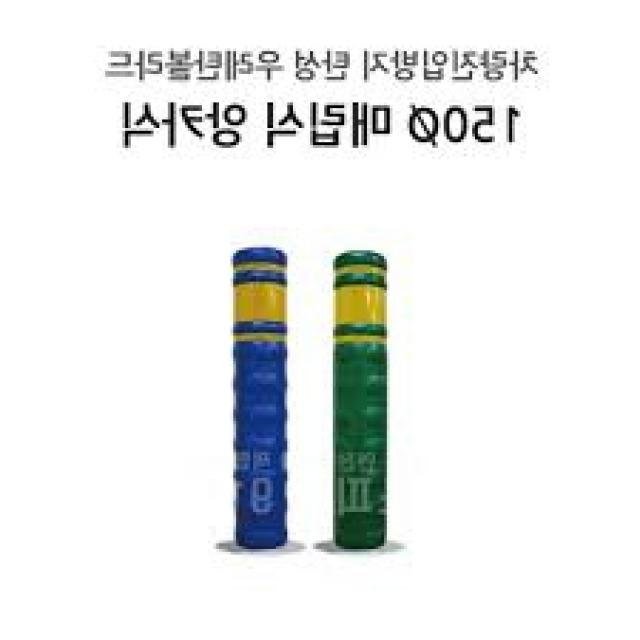bollard: (314, 241, 416, 556), (215, 238, 308, 559)
